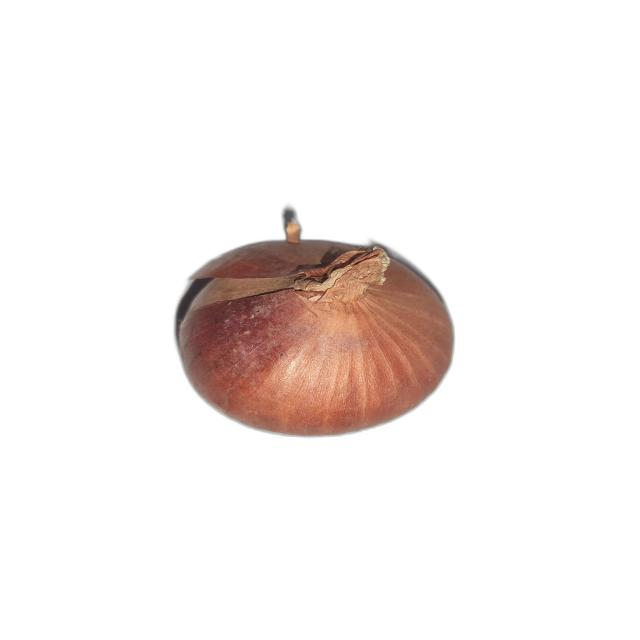onion: (178, 222, 455, 437)
